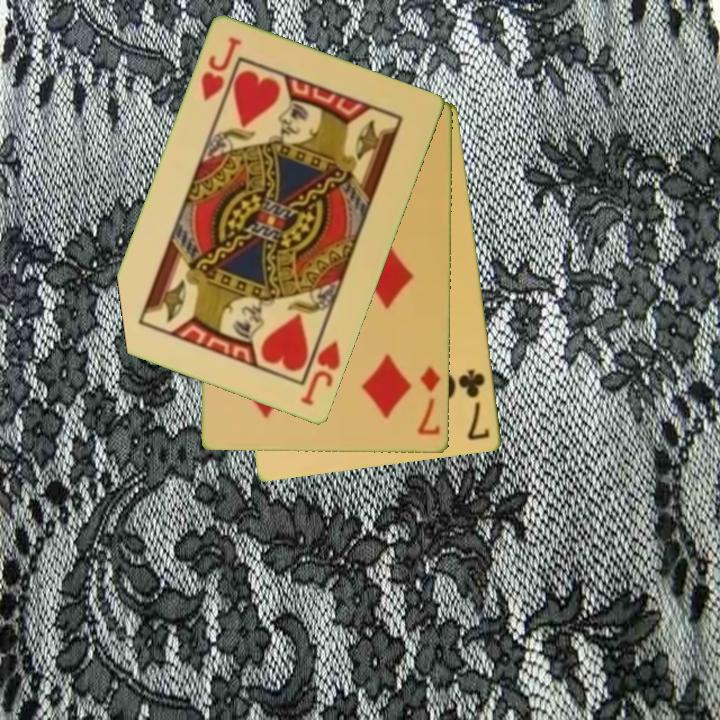7c: (455, 366, 493, 443)
7d: (414, 363, 444, 439)
Jh: (297, 327, 344, 410), (197, 34, 245, 104)
